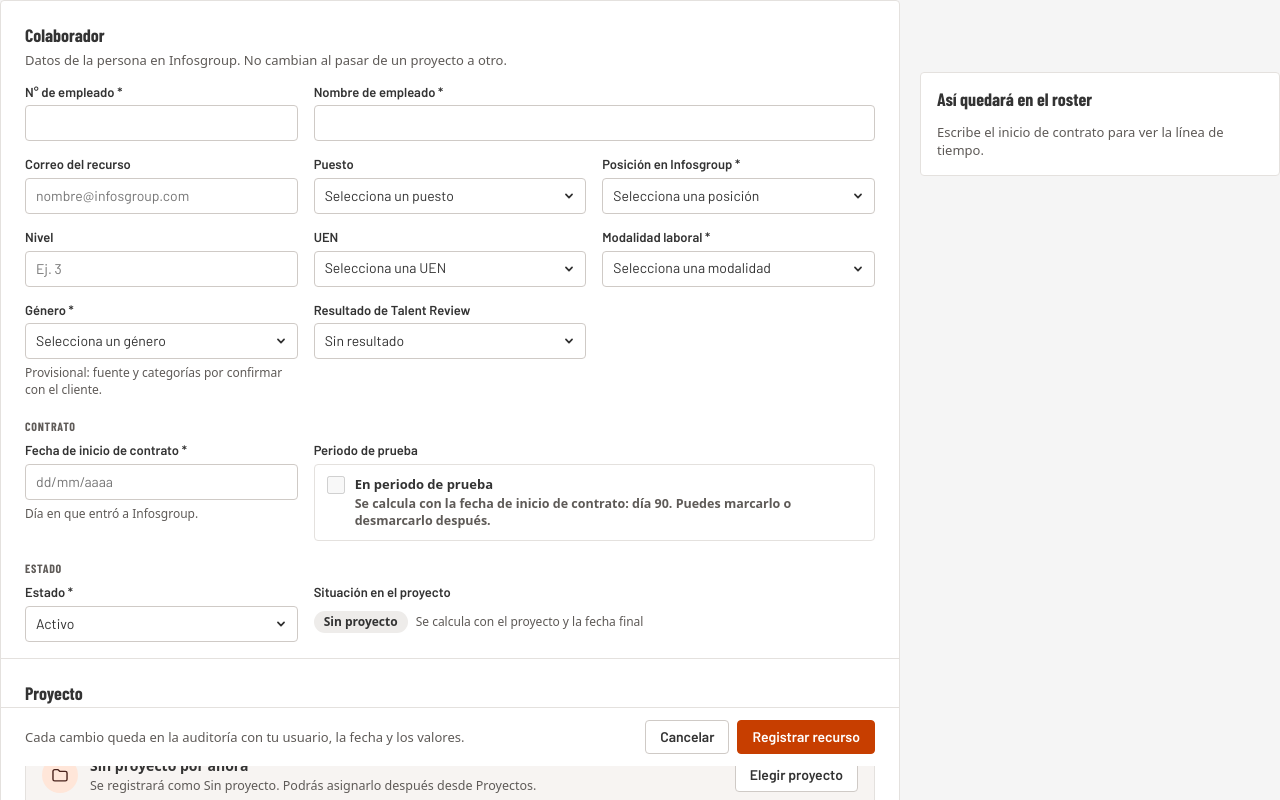
Test case: RegisterResourceForm › only links to the existing record when the person was registered without a project
Type "1045" into the field labelled "N° de empleado *" at [161, 123], box [25, 105, 298, 141]
Type "Valentina Ruiz" into the field labelled "Nombre de empleado *" at [594, 123], box [314, 105, 875, 141]
Select "Analista" in the dropdown labelled "Posición en Infosgroup *" at [739, 196], box [602, 178, 875, 214]
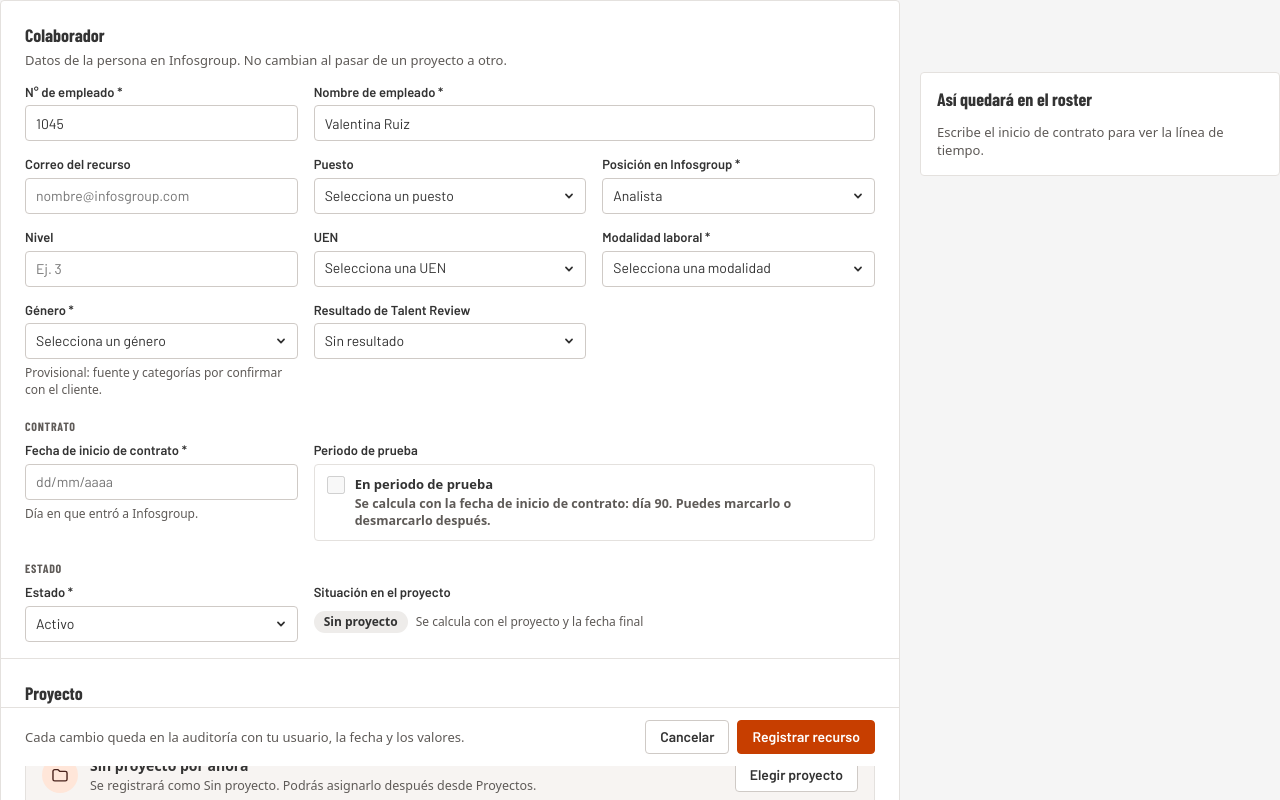
Select "Remoto" in the dropdown labelled "Modalidad laboral *" at [739, 269], box [602, 251, 875, 287]
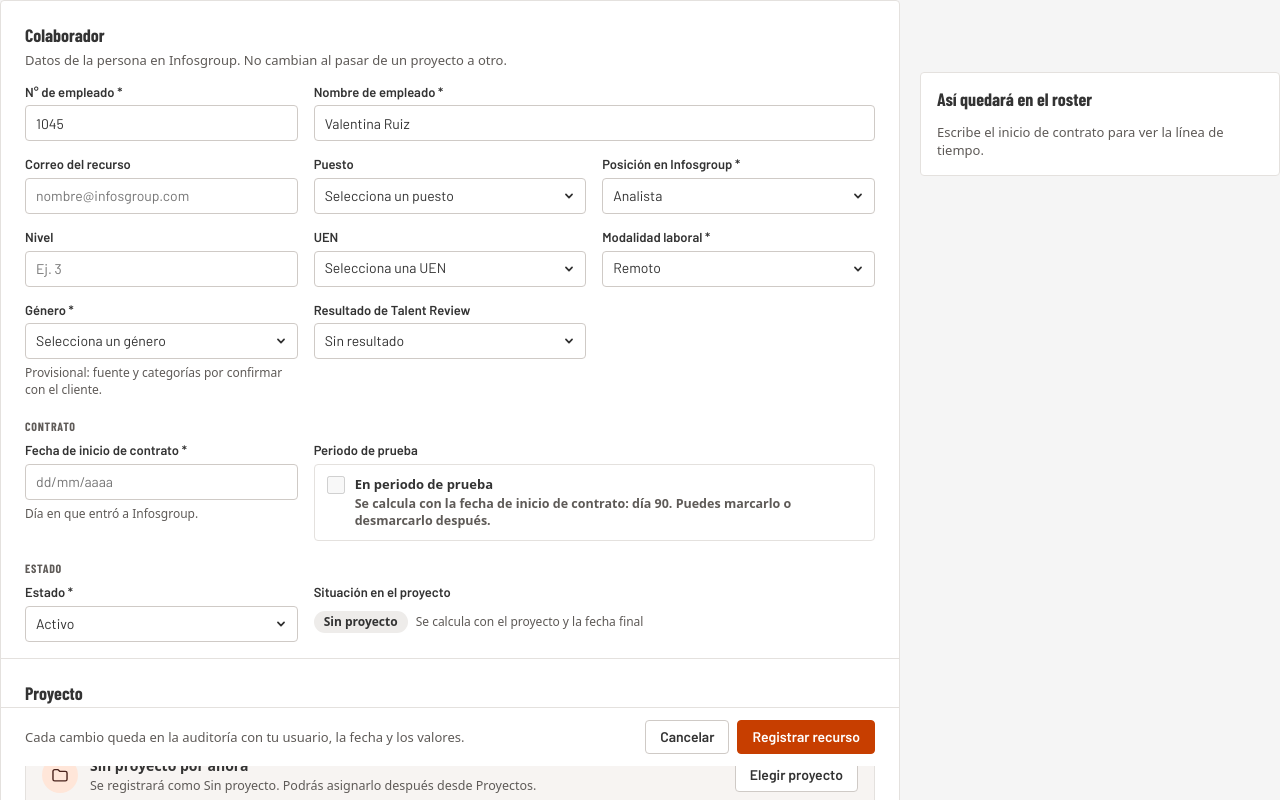
Select "Femenino" in the dropdown labelled "Género *" at [161, 341], box [25, 323, 298, 359]
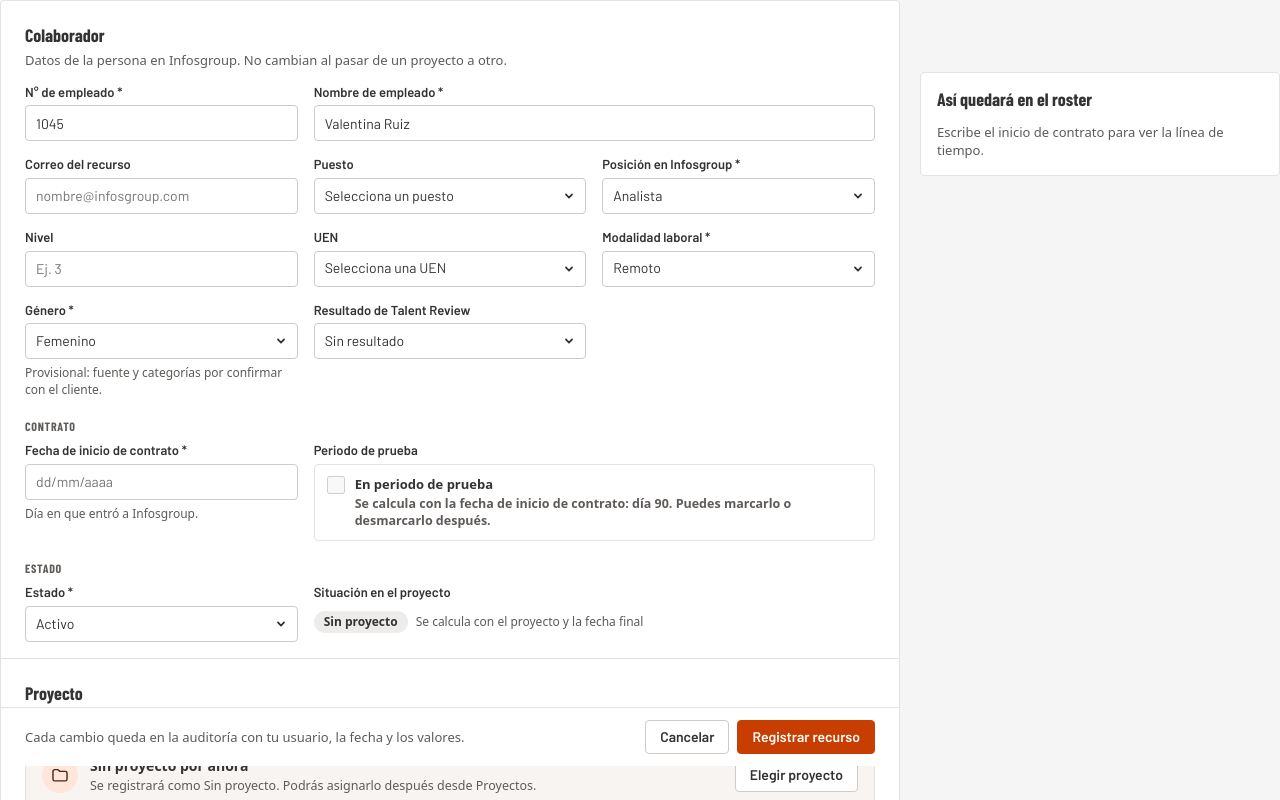
Type "3" into the field labelled "Nivel" at [161, 269], box [25, 251, 298, 287]
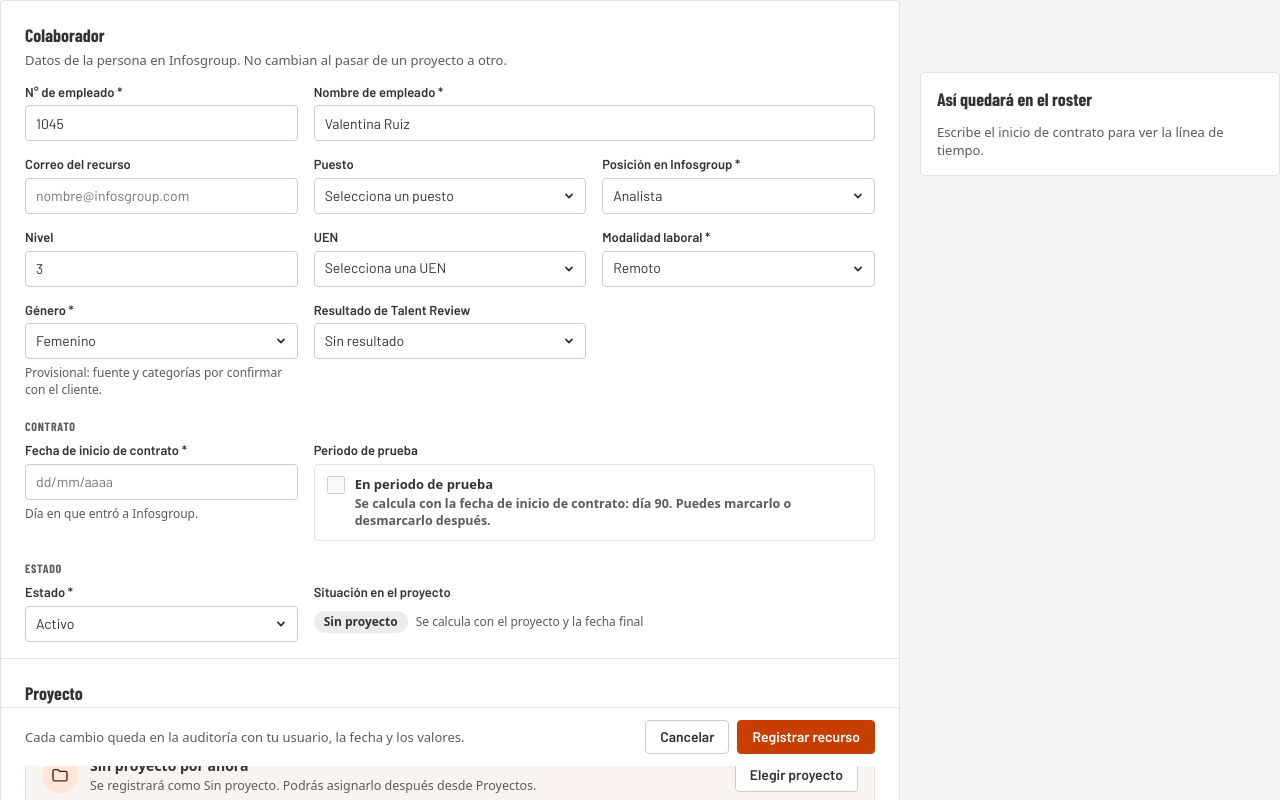
Type "20102026" into the field labelled "Fecha de inicio de contrato *" at [161, 482], box [25, 464, 298, 500]
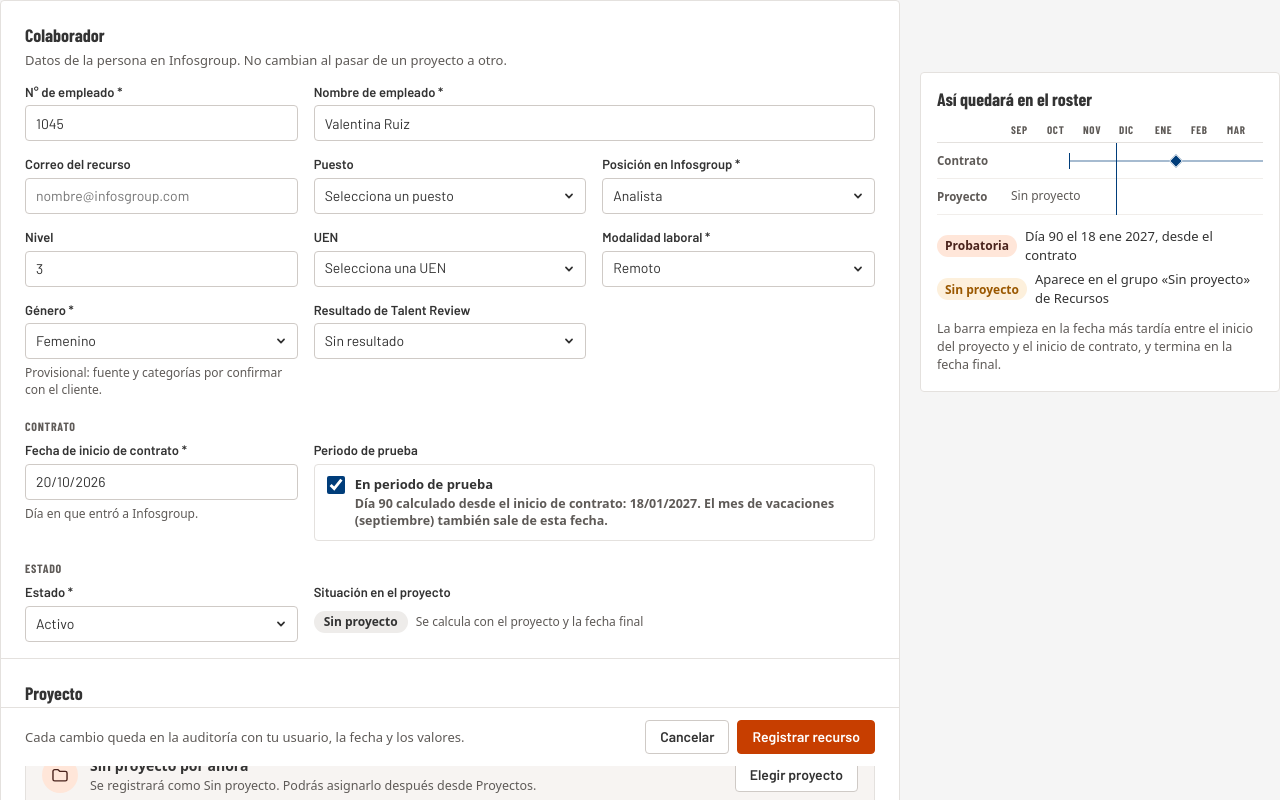
Click the button "Registrar recurso" at [806, 737], box [737, 720, 875, 754]
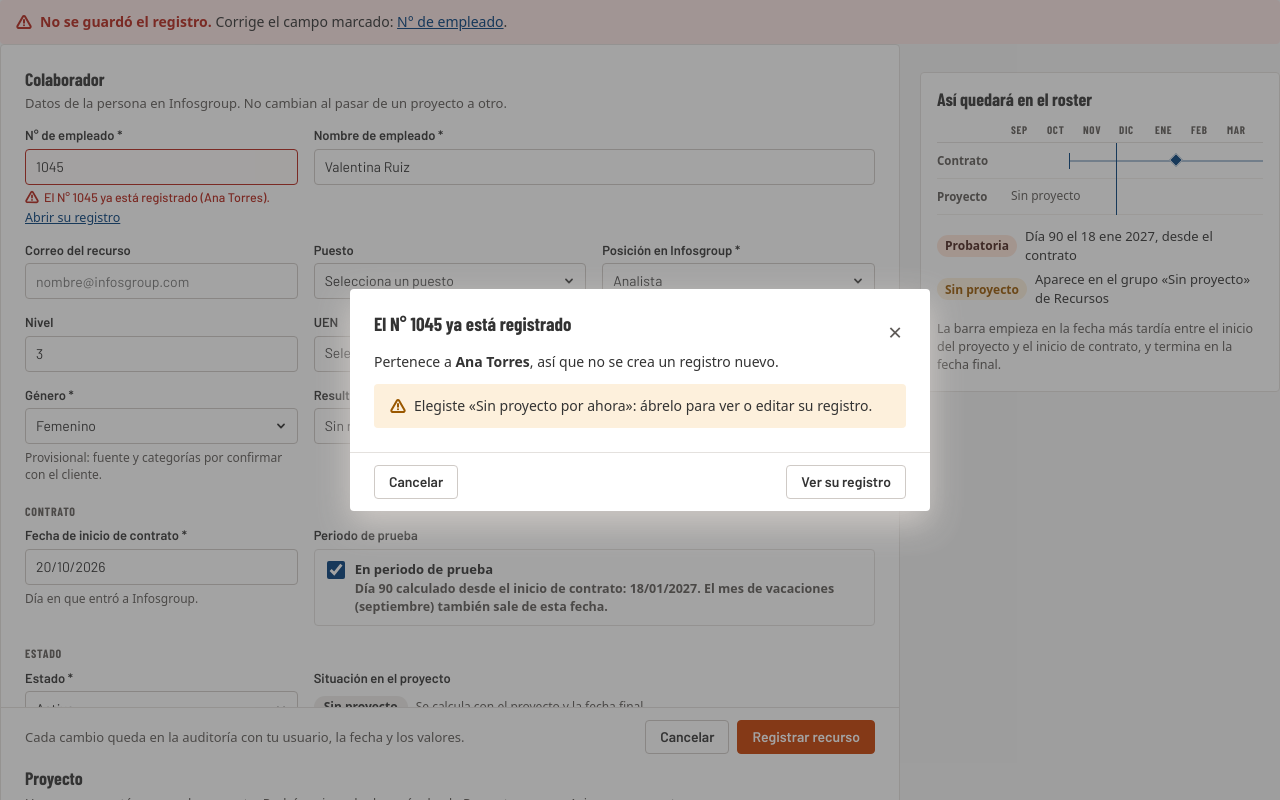
Now the text "Elegiste «Sin proyecto por ahora»: ábrelo para ver o editar su registro." is shown, box [414, 396, 872, 416]
Now the link "Ver su registro" is shown, box [786, 465, 906, 499]
